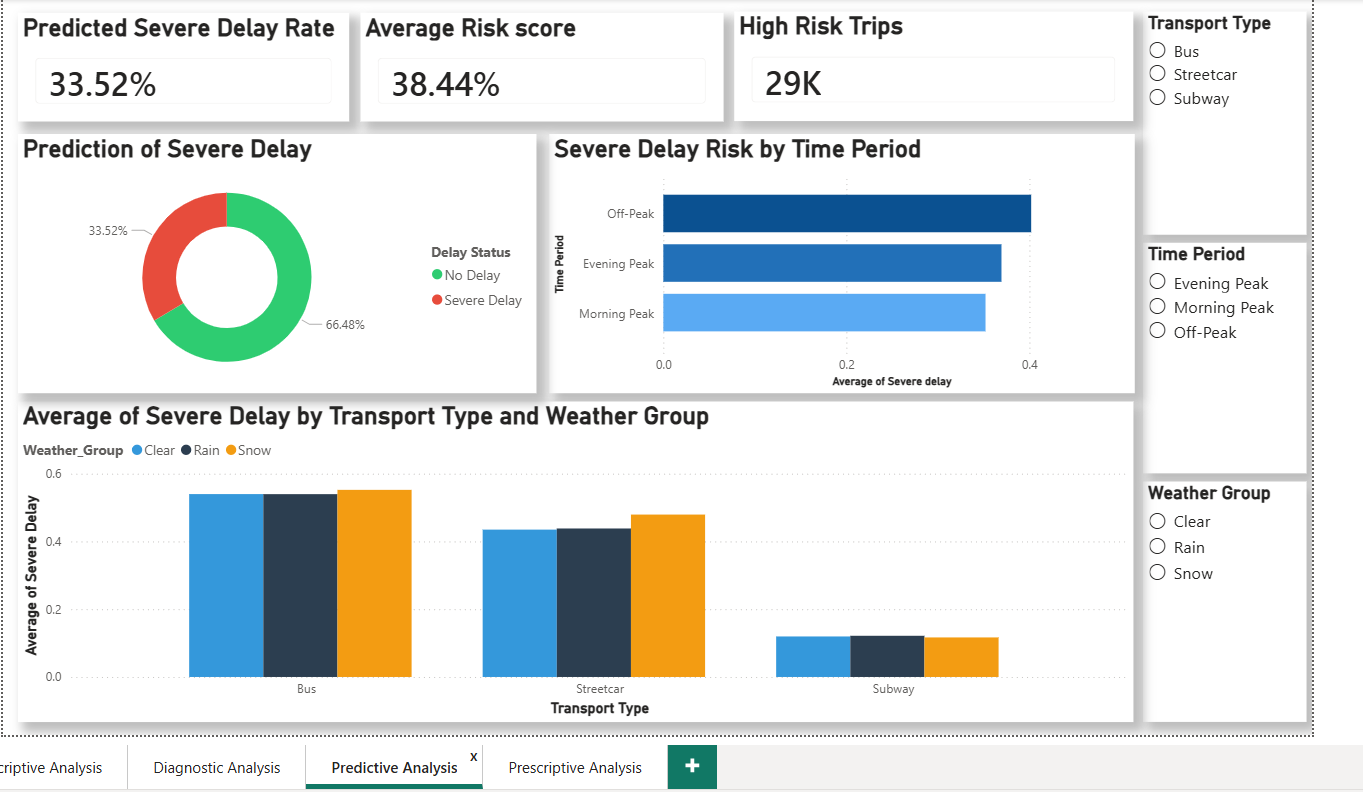

What the dashboard file says about the page in this screenshot:
{"tool":"powerbi","page":{"name":"Predictive Analysis","canvas":[1280,720],"ordinal":2},"visuals":[{"type":"listSlicer","title":"Transport Type","fields":{"Values":["ttc_predictions.Transport_Type"]},"box":[1114.8,12.5,160,218.2],"z":0},{"type":"listSlicer","title":"Time Period","fields":{"Values":["ttc_predictions.Time_Period"]},"box":[1114.8,237.9,160,225.5],"z":1000},{"type":"listSlicer","title":"Weather Group","fields":{"Values":["ttc_predictions.Weather_Group"]},"box":[1114.8,471.7,160,234.8],"z":2000},{"type":"cardVisual","title":"Predicted Severe Delay Rate","fields":{"Data":["ttc_predictions.Predicted Delay %"]},"box":[14.1,13,324.1,106.2],"z":3000},{"type":"cardVisual","title":"Average Risk score","fields":{"Data":["ttc_predictions.Avg Delay Probability"]},"box":[350.1,13,355.5,106.2],"z":4000},{"type":"cardVisual","title":"High Risk Trips","fields":{"Data":["ttc_predictions.High Risk Trips"]},"box":[715.8,12.5,390.6,107],"z":5000},{"type":"barChart","title":"Severe Delay Risk by Time Period","fields":{"Category":["ttc_predictions.Time_Period"],"Y":["Avg(ttc_predictions.severe_delay_prob)"]},"box":[534,131.9,572.5,253.5],"z":6000},{"type":"clusteredColumnChart","title":"Average of Severe Delay by Transport Type and Weather Group","fields":{"Y":["Avg(ttc_predictions.severe_delay_prob)"],"Category":["ttc_predictions.Transport_Type"],"Series":["ttc_predictions.Weather_Group"]},"box":[14.1,393.4,1091.4,313.2],"z":7000},{"type":"donutChart","title":"Prediction of Severe Delay","fields":{"Category":["ttc_predictions.Delay Status"],"Y":["CountNonNull(ttc_predictions.Delay Status)"]},"box":[14.5,131.9,507,253.5],"z":8000}]}

Visuals, with their boxes on the page's 1280x720 design canvas (x1, y1, x2, y2). These are canvas units, not pixel positions in the 1363x792 screenshot, which may show the page scaled, cropped or inside an application window:
"Transport Type" listSlicer: (x1=1115, y1=12, x2=1275, y2=231)
"Time Period" listSlicer: (x1=1115, y1=238, x2=1275, y2=463)
"Weather Group" listSlicer: (x1=1115, y1=472, x2=1275, y2=706)
"Predicted Severe Delay Rate" cardVisual: (x1=14, y1=13, x2=338, y2=119)
"Average Risk score" cardVisual: (x1=350, y1=13, x2=706, y2=119)
"High Risk Trips" cardVisual: (x1=716, y1=12, x2=1106, y2=120)
"Severe Delay Risk by Time Period" barChart: (x1=534, y1=132, x2=1106, y2=385)
"Average of Severe Delay by Transport Type and Weather Group" clusteredColumnChart: (x1=14, y1=393, x2=1106, y2=707)
"Prediction of Severe Delay" donutChart: (x1=14, y1=132, x2=522, y2=385)
